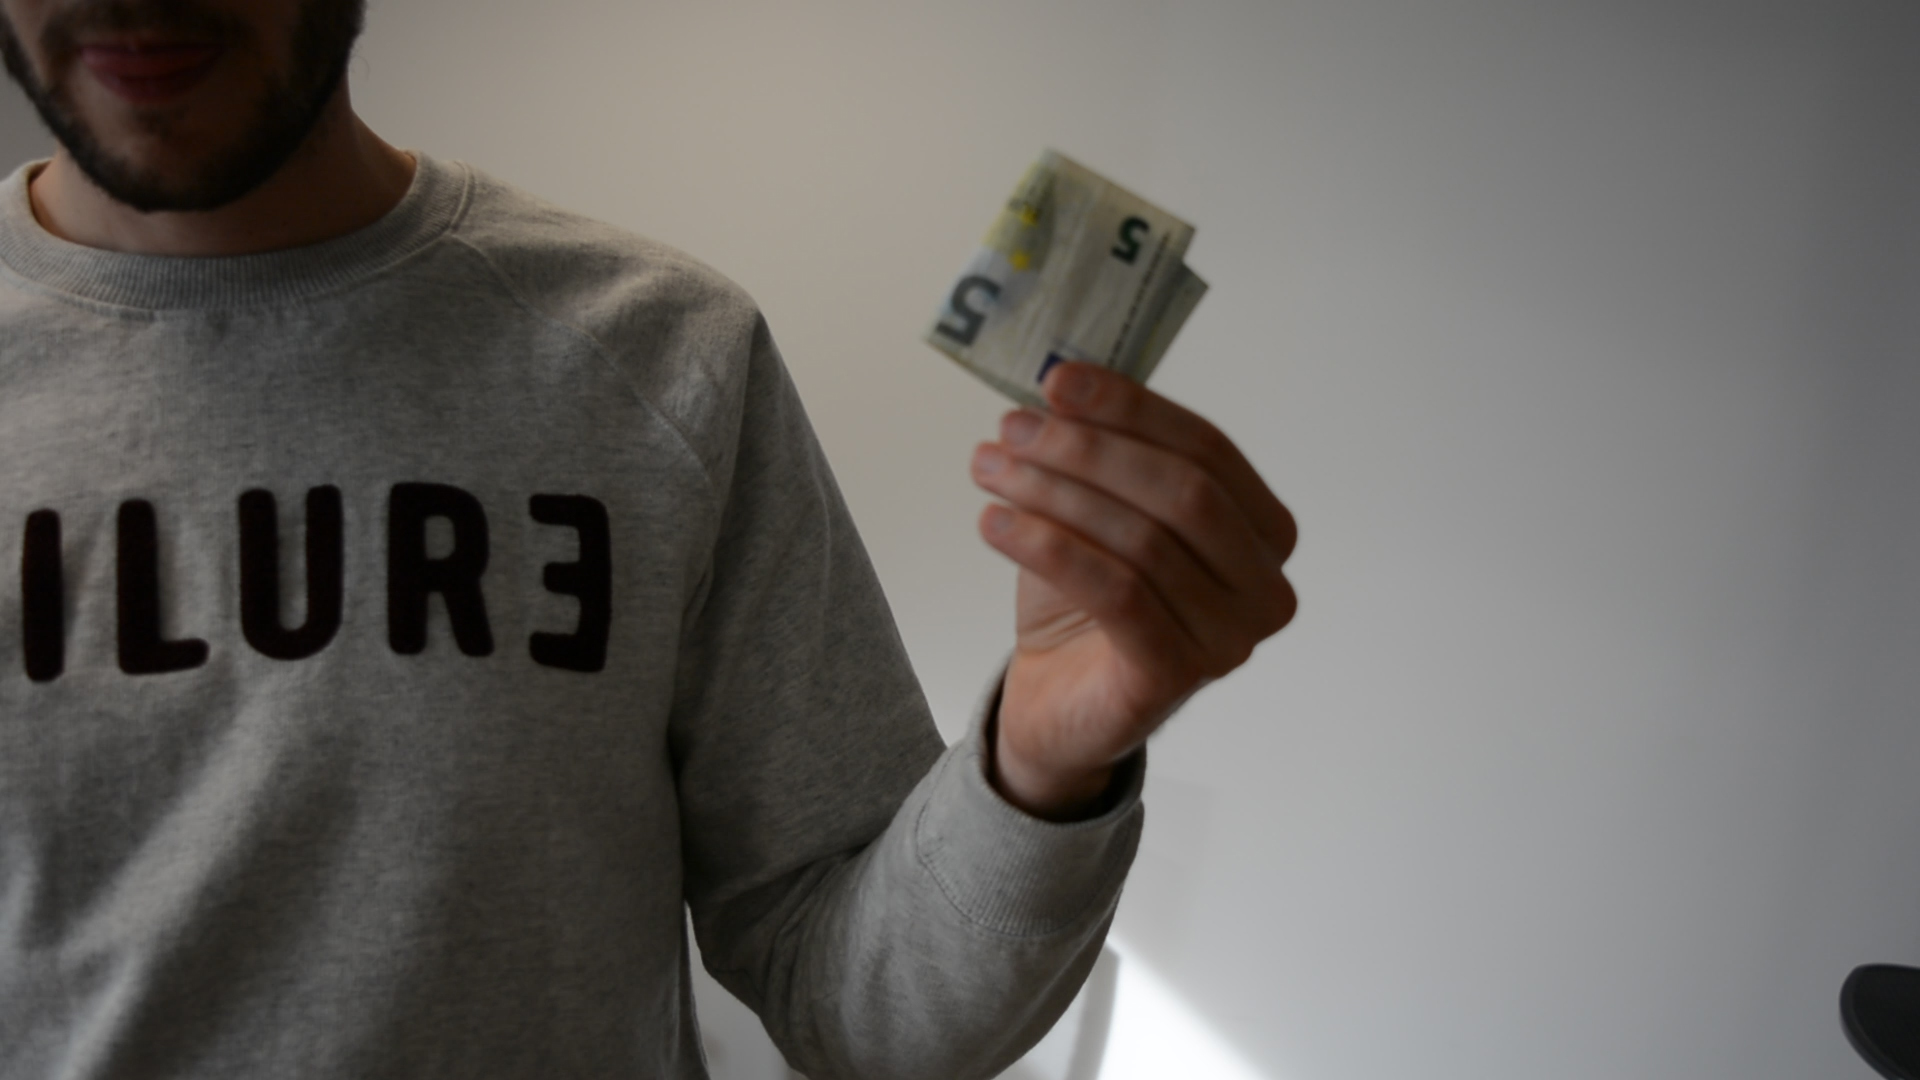billete: (916, 144, 1211, 417)
